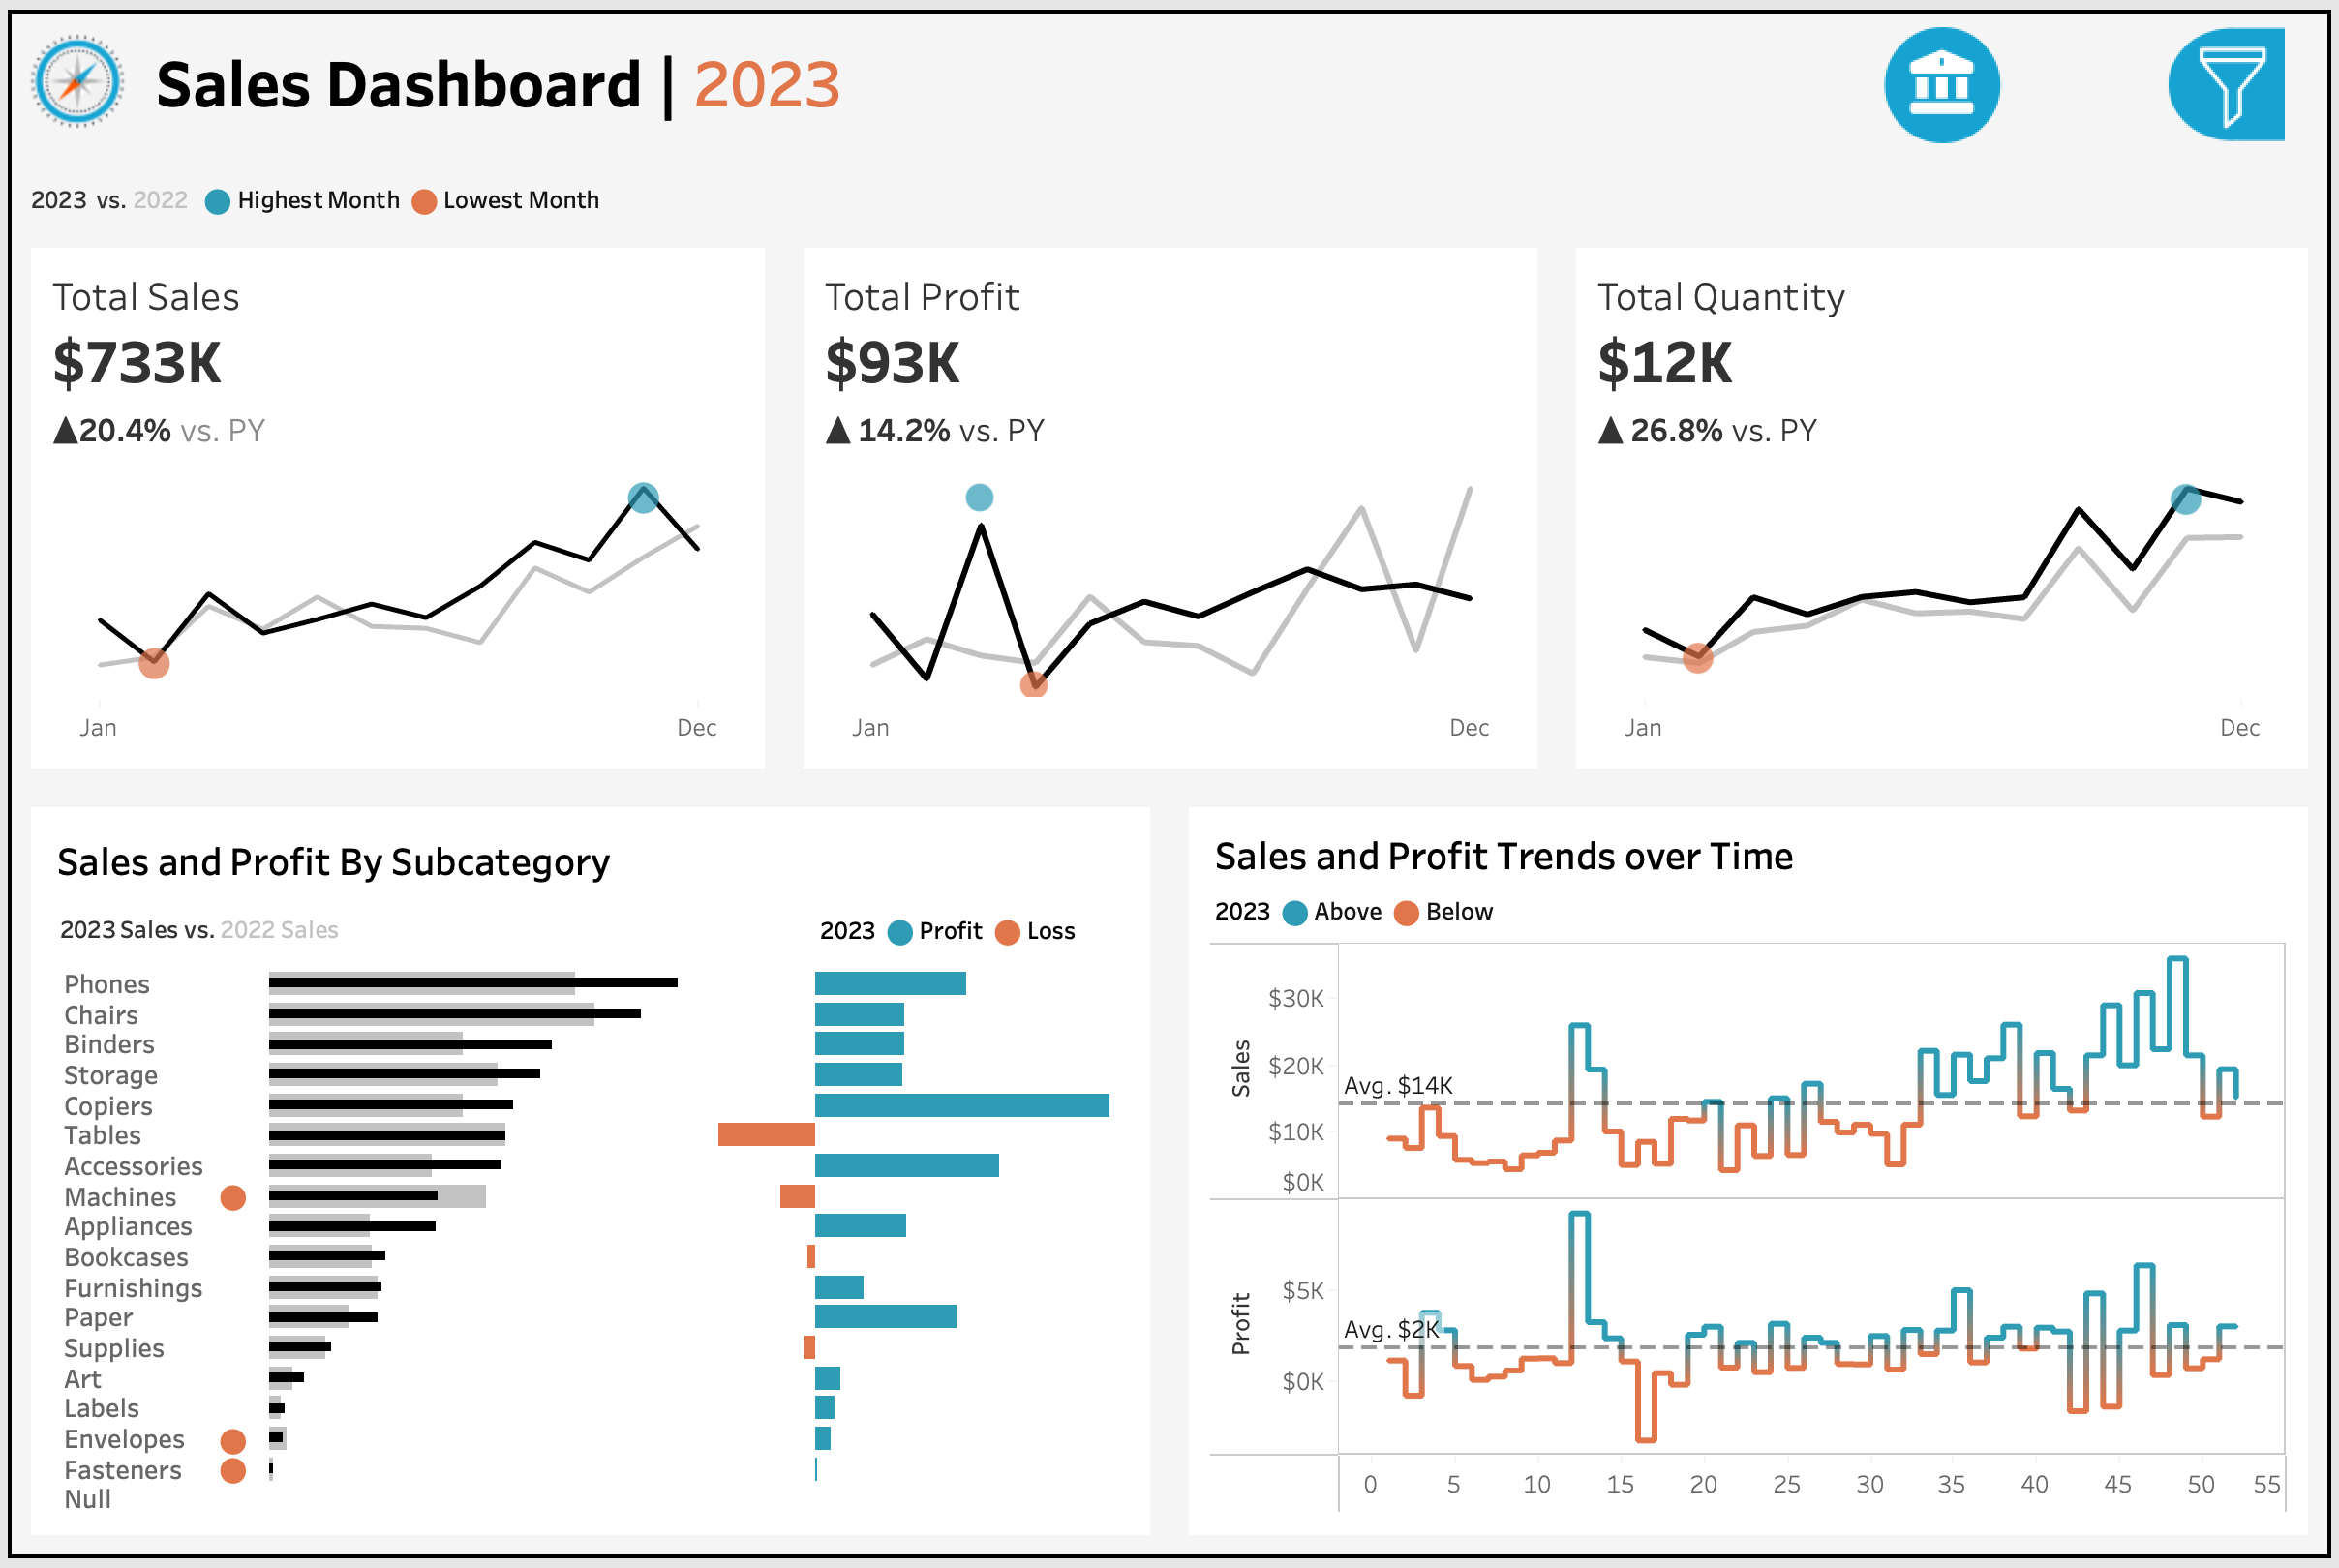

This screenshot's page, from the dashboard's own definition file:
{"tool":"tableau","page":{"name":"Sales DB","canvas":[1200,800],"ordinal":0},"visuals":[{"type":"image","param":"/Users/priyakamath/Documents/Tableau/data/TableauProject-SalesDashboard/Icons/Ic","box":[2,2,68,70]},{"type":"text","box":[70,2,854,70]},{"type":"dashboard-object","box":[926,4,146,70]},{"type":"blank","box":[943,6,250,92]},{"type":"worksheet","title":"Legend KPI","mark":"Automatic","box":[2,72,1196,51]},{"type":"text","box":[943,98,250,38]},{"type":"worksheet","title":"KPI Sales","mark":"Automatic","rows":["Calculation_6514245773598793733"],"cols":["F3"],"box":[2,123,399,279]},{"type":"worksheet","title":"KPI Profit","mark":"Automatic","rows":["Calculation_6668775536384954376"],"cols":["F3"],"box":[401,123,399,279]},{"type":"worksheet","title":"KPI Quantity","mark":"Automatic","rows":["Calculation_6668775536384798727"],"cols":["F3"],"box":[800,123,398,279]},{"type":"parameter","param":"[Parameters].[Sales Parameter]","box":[943,136,250,62]},{"type":"blank","box":[943,198,250,39]},{"type":"text","box":[943,237,250,29]},{"type":"filter","title":"KPI Sales","param":"[federated.0atwaf507p73wp1bpn69p14l010k].[none:Category:nk]","box":[943,266,250,52]},{"type":"filter","title":"KPI Sales","param":"[federated.0atwaf507p73wp1bpn69p14l010k].[none:Sub-Category:nk]","box":[943,318,250,52]},{"type":"blank","box":[943,370,250,38]},{"type":"text","box":[943,408,250,29]},{"type":"text","box":[19,419,564,40]},{"type":"text","box":[617,419,564,34]},{"type":"filter","title":"KPI Sales","param":"[federated.0atwaf507p73wp1bpn69p14l010k].[none:Region:nk]","box":[943,437,250,52]},{"type":"text","box":[617,453,564,25]},{"type":"worksheet","title":"Legend Subcategory","mark":"Automatic","box":[19,459,394,32]},{"type":"text","box":[413,459,170,32]},{"type":"worksheet","title":"Weekly Trends","mark":"Automatic","rows":["Calculation_6514245773594025985","Calculation_6668775536379125762"],"cols":["F3"],"box":[617,478,564,303]},{"type":"filter","title":"KPI Sales","param":"[federated.0atwaf507p73wp1bpn69p14l010k].[none:State:nk]","box":[943,489,250,52]},{"type":"worksheet","title":"Subcategory Comparison","mark":"Bar","rows":["Sub-Category","Calculation_6730559293830074368"],"cols":["Calculation_6514245773594365954","Calculation_6514245773594025985","Calculation_6668775536379125762"],"box":[19,491,564,289.9]},{"type":"filter","title":"KPI Sales","param":"[federated.0atwaf507p73wp1bpn69p14l010k].[none:City:nk]","box":[943,541,250,52]}]}

Visuals, with their boxes in screenshot pixels (x1, y1, x2, y2), scaled from the page's 1200x800 canvas onto the 2339x1568 screenshot:
image: 4,4,137,141
text: 137,4,1801,141
dashboard-object: 1805,8,2089,145
blank: 1838,12,2325,192
"Legend KPI" worksheet: 4,141,2335,241
text: 1838,192,2325,266
"KPI Sales" worksheet: 4,241,781,788
"KPI Profit" worksheet: 781,241,1560,788
"KPI Quantity" worksheet: 1560,241,2335,788
parameter: 1838,266,2325,388
blank: 1838,388,2325,465
text: 1838,465,2325,522
"KPI Sales" filter: 1838,522,2325,623
"KPI Sales" filter: 1838,623,2325,725
blank: 1838,725,2325,799
text: 1838,799,2325,857
text: 37,821,1137,899
text: 1202,821,2302,888
"KPI Sales" filter: 1838,857,2325,958
text: 1202,888,2302,937
"Legend Subcategory" worksheet: 37,899,805,962
text: 805,899,1137,962
"Weekly Trends" worksheet: 1202,937,2302,1531
"KPI Sales" filter: 1838,958,2325,1061
"Subcategory Comparison" worksheet (Bar marks): 37,962,1137,1530
"KPI Sales" filter: 1838,1061,2325,1162
